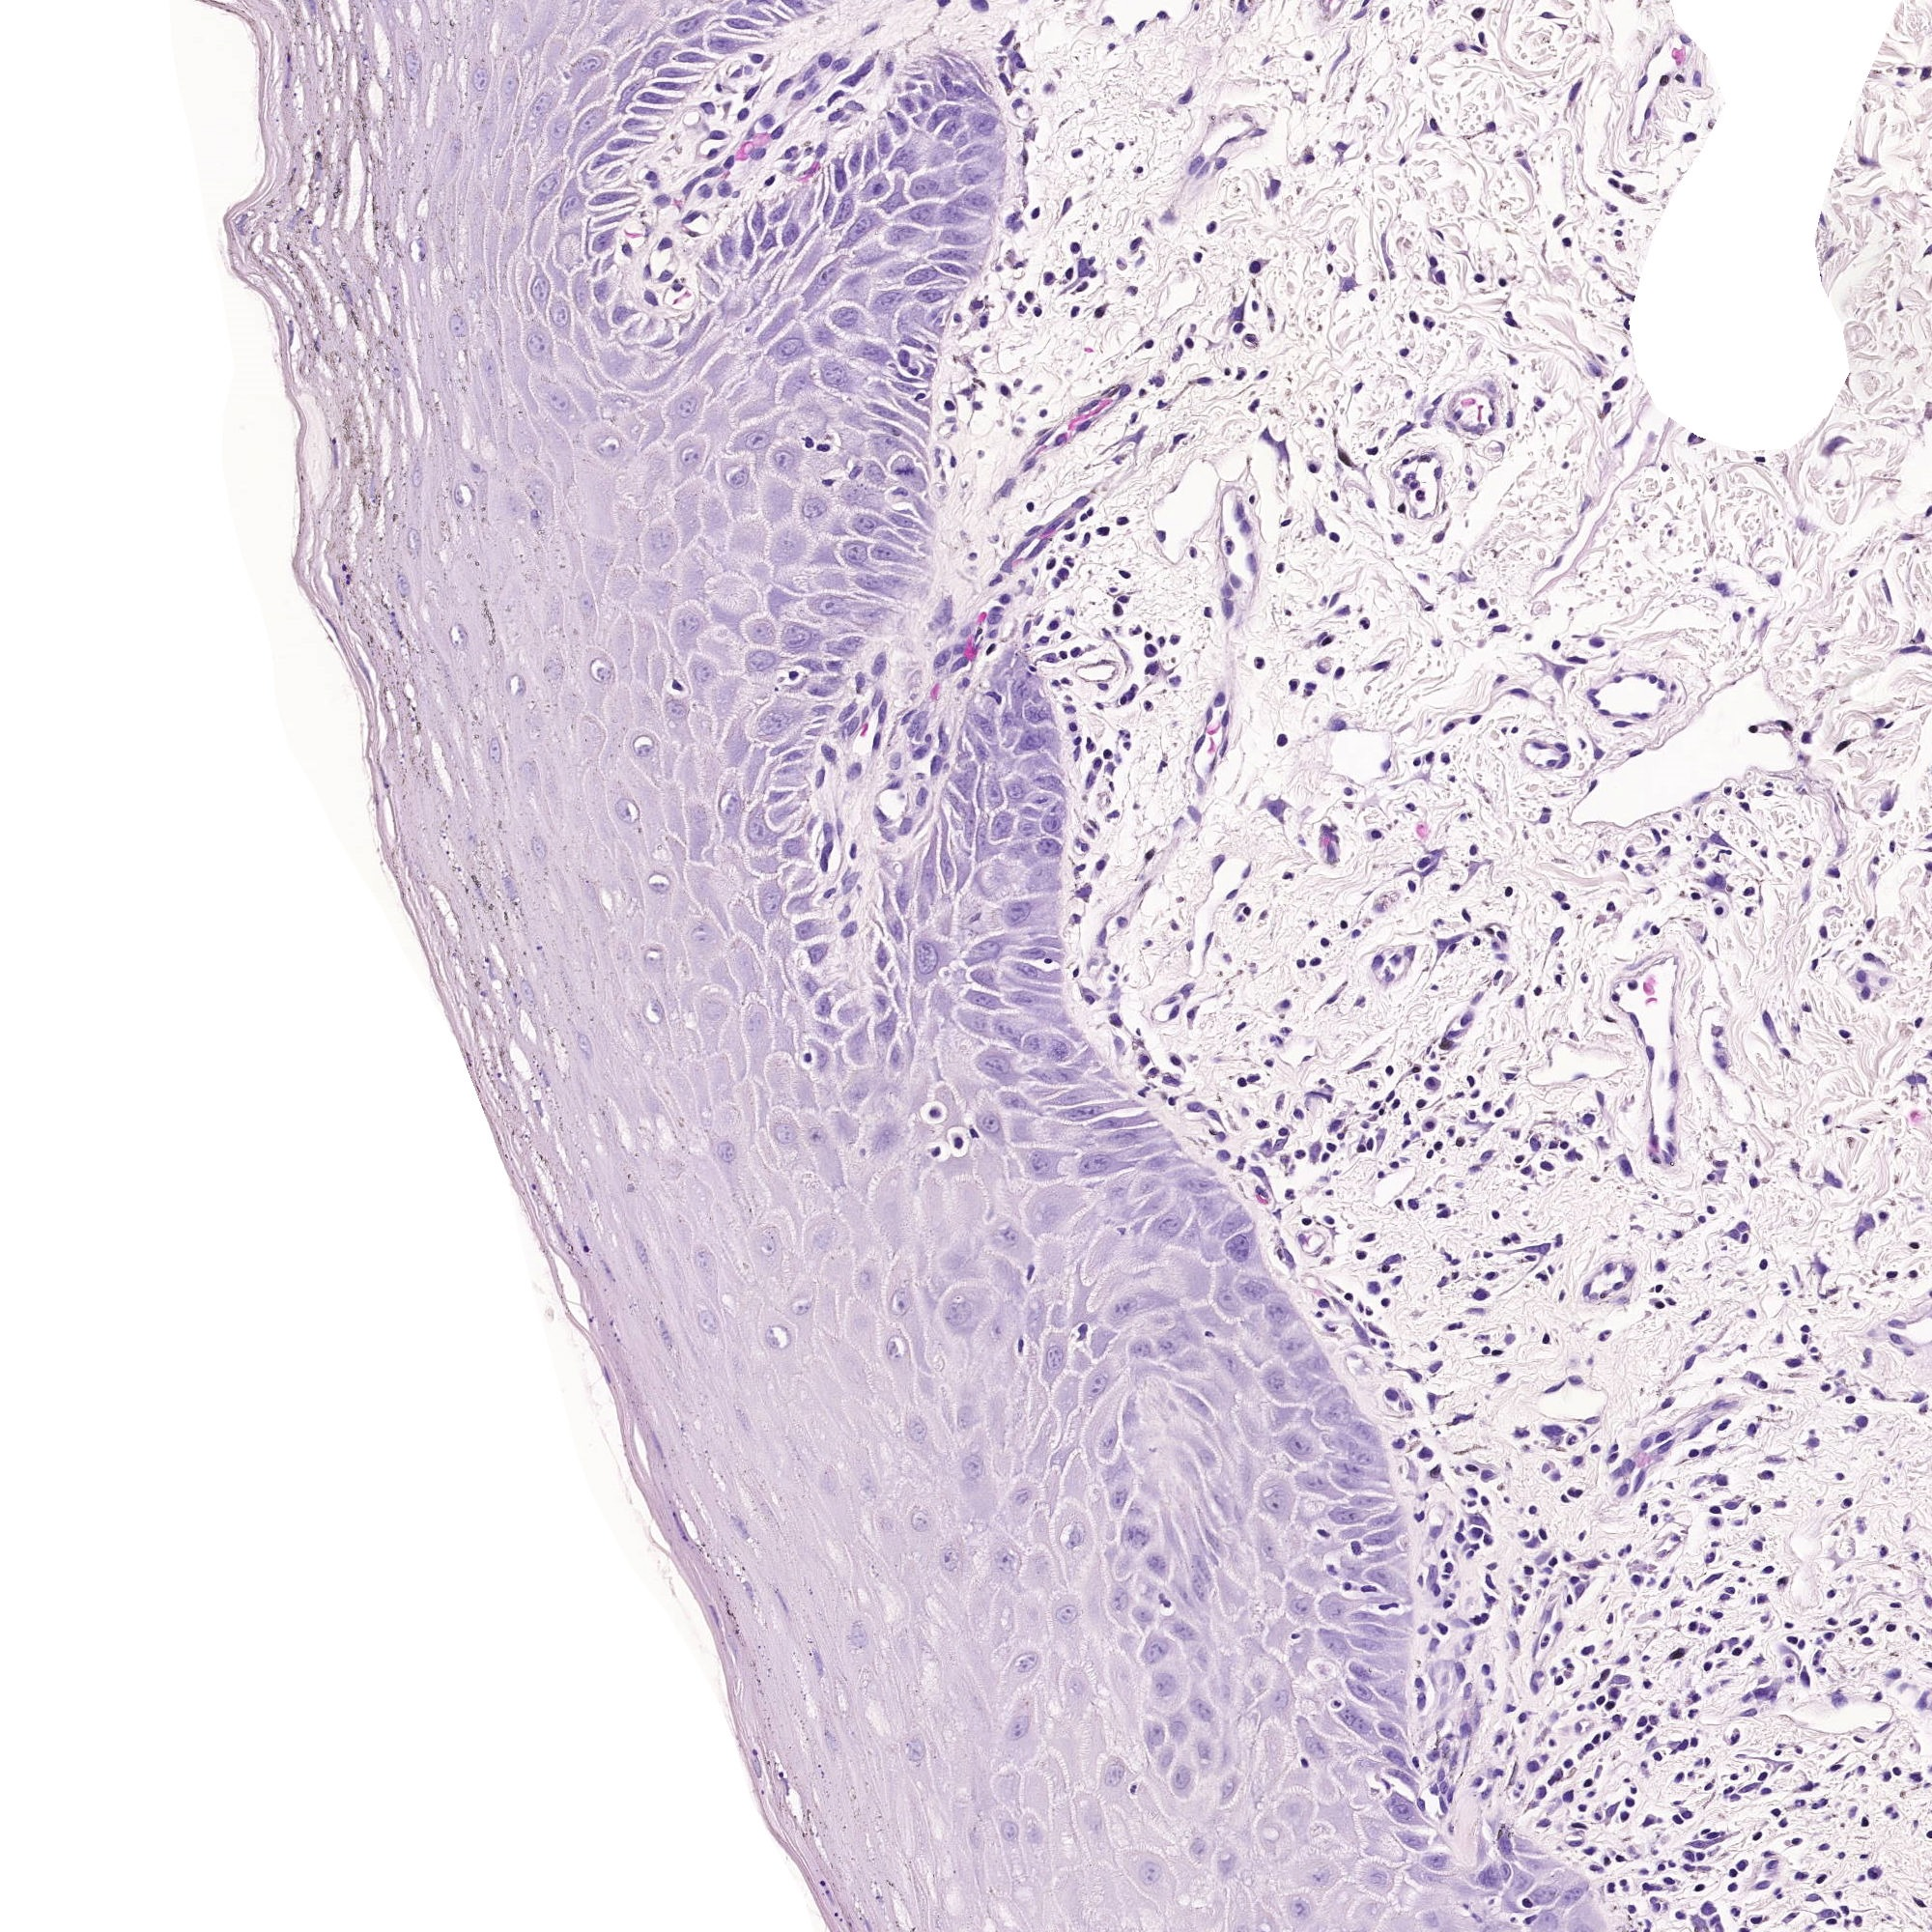epithelial: (916, 1518, 927, 1527), (1391, 1752, 1399, 1760), (768, 720, 780, 725), (1132, 1530, 1139, 1539), (1384, 1729, 1392, 1736), (918, 186, 929, 191), (757, 628, 764, 635), (782, 1131, 789, 1138), (943, 863, 950, 870), (915, 1424, 922, 1431), (1017, 1723, 1024, 1730), (1329, 1408, 1336, 1415), (1299, 1603, 1306, 1610), (1338, 1514, 1352, 1518), (1373, 1875, 1380, 1882), (586, 122, 594, 127), (752, 437, 761, 442), (713, 1010, 722, 1016), (902, 154, 911, 159), (925, 292, 934, 297), (837, 646, 846, 651), (1047, 821, 1056, 826), (980, 996, 989, 1001), (1012, 1100, 1021, 1106), (1399, 1808, 1405, 1817), (1414, 1838, 1419, 1847), (409, 60, 414, 67), (556, 311, 563, 317), (717, 41, 724, 46), (782, 456, 787, 464), (685, 621, 695, 625), (701, 671, 706, 678), (888, 297, 895, 303), (828, 372, 835, 377), (904, 386, 911, 391), (924, 954, 929, 961), (893, 1054, 899, 1062), (955, 1309, 961, 1316), (961, 1417, 968, 1422), (1044, 846, 1051, 851), (984, 945, 991, 950), (1060, 1046, 1065, 1053), (985, 1118, 991, 1125), (1051, 1353, 1056, 1361), (1106, 1437, 1111, 1444), (1023, 1661, 1030, 1667), (1235, 1244, 1246, 1247), (1226, 1297, 1231, 1304), (1247, 1288, 1254, 1293), (1307, 1481, 1318, 1484), (1178, 1626, 1185, 1631), (1154, 1645, 1159, 1652), (1315, 1744, 1325, 1748), (1343, 1477, 1348, 1484), (1361, 1614, 1368, 1619), (1371, 1629, 1378, 1635), (1361, 1644, 1371, 1647), (1357, 1670, 1364, 1675), (1433, 1859, 1440, 1865), (556, 398, 564, 402), (865, 1484, 874, 1488), (1139, 1612, 1148, 1615), (479, 76, 485, 81), (508, 85, 513, 90), (412, 538, 418, 543), (584, 602, 589, 607), (787, 343, 793, 349), (658, 536, 663, 541), (701, 1258, 706, 1263), (708, 1322, 713, 1327), (741, 1414, 747, 1419), (876, 186, 881, 191), (842, 209, 847, 214), (885, 1026, 890, 1031), (855, 1047, 860, 1053), (1031, 738, 1037, 743), (991, 793, 996, 798), (1001, 1026, 1007, 1031), (1085, 1109, 1090, 1115), (1113, 1773, 1118, 1778), (1168, 1224, 1173, 1230), (1166, 1343, 1171, 1348), (1361, 1431, 1366, 1437), (1361, 1499, 1366, 1504), (545, 182, 552, 186), (534, 343, 541, 347), (685, 25, 688, 32), (598, 239, 602, 246), (727, 246, 731, 253), (757, 219, 761, 226), (810, 506, 817, 510), (754, 826, 757, 833), (770, 899, 773, 906), (803, 927, 810, 931), (814, 1134, 821, 1138), (766, 1242, 770, 1249), (862, 524, 869, 527), (878, 410, 885, 414), (961, 780, 968, 784), (973, 1021, 980, 1024), (1030, 1040, 1037, 1044), (994, 1063, 1001, 1067), (1069, 1095, 1076, 1099), (1005, 1557, 1012, 1560), (1141, 1343, 1148, 1346), (1288, 1343, 1295, 1346), (1269, 1375, 1276, 1378), (1196, 1583, 1200, 1591), (1311, 1875, 1318, 1879), (1361, 1454, 1368, 1458), (1373, 1537, 1387, 1539), (1380, 1573, 1384, 1580), (1359, 1688, 1362, 1695), (1541, 1891, 1545, 1898), (1039, 800, 1051, 801), (455, 322, 458, 327), (403, 584, 407, 589), (534, 488, 538, 494), (552, 669, 556, 674), (536, 846, 541, 849), (736, 21, 741, 25), (649, 97, 655, 101), (766, 239, 771, 242), (602, 324, 605, 329), (736, 476, 741, 479), (775, 794, 780, 798), (755, 1019, 759, 1024), (722, 1150, 727, 1154), (642, 1251, 646, 1256), (837, 175, 840, 180), (916, 212, 922, 216), (945, 255, 955, 257), (916, 274, 922, 278), (855, 552, 860, 556), (865, 579, 870, 582), (870, 612, 876, 616), (826, 1477, 830, 1483), (947, 1557, 952, 1560), (856, 1633, 860, 1638), (980, 117, 984, 122), (971, 173, 977, 177), (1031, 709, 1037, 713), (1012, 789, 1017, 793), (1024, 823, 1028, 828), (1039, 874, 1044, 878), (1014, 911, 1019, 915), (1026, 970, 1031, 973), (1023, 996, 1028, 1000), (1039, 1157, 1042, 1162), (1095, 1162, 1099, 1168), (1109, 1122, 1115, 1125), (1005, 1233, 1010, 1237), (1097, 1384, 1100, 1389), (1017, 1495, 1023, 1499), (1065, 1612, 1070, 1615), (1086, 1817, 1092, 1821), (1194, 1184, 1200, 1187), (1276, 1309, 1279, 1315), (1207, 1456, 1210, 1461), (1215, 1541, 1219, 1546), (1201, 1566, 1205, 1571), (1074, 1683, 1077, 1688), (1226, 1785, 1230, 1790), (1148, 1870, 1154, 1874), (1224, 1865, 1230, 1868), (1297, 1905, 1302, 1909), (1380, 1520, 1384, 1525), (1506, 1870, 1509, 1875), (665, 85, 674, 87), (809, 984, 810, 993), (817, 1240, 826, 1242), (855, 157, 856, 166), (897, 520, 906, 522), (1346, 1468, 1355, 1470), (494, 748, 497, 752), (582, 1042, 586, 1046), (695, 41, 699, 44), (628, 90, 632, 94), (642, 110, 649, 111), (600, 159, 603, 163), (747, 244, 750, 248), (777, 212, 780, 216), (824, 274, 828, 278), (794, 635, 798, 639), (828, 603, 832, 607), (674, 706, 678, 709), (793, 754, 796, 757), (699, 932, 702, 936), (823, 1003, 824, 1010), (823, 1028, 826, 1031), (821, 1054, 824, 1058), (738, 1525, 741, 1529), (947, 85, 950, 88), (959, 88, 962, 92), (922, 103, 925, 106), (934, 117, 938, 120), (947, 127, 950, 131), (885, 142, 886, 149), (860, 225, 863, 228), (853, 492, 856, 495), (878, 550, 885, 552), (814, 690, 821, 692), (915, 1746, 918, 1750), (973, 200, 977, 203), (1039, 780, 1046, 782), (1003, 823, 1007, 826), (895, 924, 897, 931), (985, 973, 989, 977), (971, 1461, 975, 1465), (1010, 1829, 1012, 1836), (1154, 1203, 1157, 1207), (1118, 1307, 1125, 1309), (1226, 1361, 1230, 1364), (1191, 1361, 1198, 1362), (1164, 1759, 1168, 1762), (1178, 1776, 1182, 1780), (1361, 1723, 1362, 1730), (1401, 1775, 1405, 1778), (589, 62, 591, 67), (559, 124, 561, 129), (568, 203, 573, 205), (540, 288, 541, 294), (490, 363, 492, 368), (653, 55, 658, 57), (786, 234, 791, 235), (755, 658, 761, 660), (819, 1658, 821, 1663), (869, 161, 870, 166), (952, 237, 957, 239), (948, 267, 954, 269), (865, 350, 870, 352), (908, 341, 913, 343), (784, 547, 789, 548), (899, 1304, 904, 1306), (968, 152, 973, 154), (1120, 1136, 1125, 1138), (1116, 1497, 1122, 1499), (1157, 1162, 1162, 1164), (1146, 1184, 1152, 1185), (1299, 1444, 1304, 1445), (1154, 1560, 1159, 1562), (1203, 1748, 1205, 1753), (455, 145, 456, 149), (580, 295, 582, 299), (527, 991, 529, 994), (621, 142, 623, 145), (600, 288, 603, 290), (617, 313, 619, 317), (685, 405, 688, 407), (688, 455, 692, 456), (814, 952, 817, 954), (589, 1189, 591, 1192), (801, 1304, 803, 1307), (908, 101, 909, 104), (893, 202, 895, 205), (821, 334, 823, 338), (879, 957, 881, 961), (945, 740, 947, 743), (879, 996, 881, 1000), (961, 140, 962, 143), (950, 214, 954, 216), (1017, 688, 1021, 690), (980, 748, 982, 752), (1046, 1074, 1049, 1076), (1116, 1189, 1120, 1191), (1231, 1224, 1235, 1226), (1116, 1599, 1120, 1601), (1196, 1845, 1200, 1847), (1346, 1713, 1348, 1716), (416, 478, 418, 479), (789, 847, 791, 849), (780, 1598, 782, 1599), (865, 1276, 867, 1277)
fibroblast and endothelial: (876, 658, 881, 669), (920, 793, 925, 801), (1573, 1378, 1582, 1384), (1376, 663, 1384, 669), (1431, 1571, 1435, 1582), (1251, 559, 1254, 568), (1444, 725, 1453, 729), (1615, 1677, 1624, 1681), (837, 62, 842, 67), (796, 92, 801, 97), (1083, 423, 1088, 428), (883, 441, 888, 446), (1067, 522, 1072, 527), (1053, 522, 1058, 527), (1231, 579, 1237, 584), (1169, 1077, 1175, 1083), (1426, 410, 1431, 416), (1376, 959, 1382, 964), (1826, 1177, 1831, 1182), (1920, 1077, 1925, 1083), (1562, 759, 1568, 764), (748, 90, 752, 97), (713, 134, 720, 138), (686, 184, 690, 191), (862, 67, 869, 71), (957, 662, 964, 665), (844, 709, 847, 717), (851, 724, 855, 731), (906, 823, 909, 830), (1026, 462, 1033, 465), (1017, 545, 1021, 552), (1184, 96, 1191, 99), (1192, 161, 1196, 168), (1226, 603, 1230, 610), (1212, 858, 1219, 862), (1185, 985, 1192, 989), (1490, 416, 1493, 423), (1442, 1803, 1445, 1810), (1458, 1667, 1461, 1674), (1688, 1359, 1691, 1366), (1463, 1016, 1467, 1023), (1555, 932, 1559, 939), (1557, 669, 1560, 676), (805, 73, 810, 76), (660, 198, 665, 202), (711, 170, 717, 173), (702, 189, 708, 193), (692, 214, 697, 218), (665, 274, 669, 280), (828, 752, 832, 757), (849, 76, 853, 81), (835, 92, 839, 97), (964, 628, 968, 633), (855, 768, 858, 773), (849, 879, 853, 885), (842, 911, 846, 916), (1005, 35, 1008, 41), (1042, 437, 1046, 442), (870, 474, 876, 478), (994, 579, 1000, 582), (1100, 685, 1106, 688), (1244, 524, 1247, 529), (1191, 812, 1196, 816), (1143, 1058, 1146, 1063), (1256, 1169, 1261, 1173), (1431, 258, 1435, 264), (1401, 430, 1407, 433), (1456, 412, 1461, 416), (1438, 536, 1442, 541), (1856, 1918, 1859, 1923), (1856, 1737, 1861, 1741), (1748, 1711, 1752, 1716), (1433, 1789, 1437, 1794), (1474, 1530, 1477, 1536), (1391, 1392, 1394, 1398), (1663, 1445, 1668, 1449), (1359, 1330, 1362, 1336), (1373, 1327, 1378, 1330), (1732, 1231, 1736, 1237), (1893, 1322, 1898, 1325), (1329, 998, 1334, 1001), (1668, 1122, 1672, 1127), (1714, 1028, 1718, 1033), (1766, 1019, 1771, 1023), (1716, 839, 1721, 842), (1560, 747, 1566, 750), (1688, 134, 1693, 138), (736, 73, 740, 76), (823, 58, 826, 62), (780, 83, 784, 87), (748, 133, 752, 136), (775, 131, 778, 134), (651, 173, 655, 177), (663, 241, 667, 244), (939, 655, 941, 662), (876, 695, 878, 702), (876, 738, 878, 745), (879, 812, 883, 816), (1014, 101, 1017, 104), (1081, 285, 1085, 288), (1099, 310, 1100, 317), (1092, 402, 1095, 405), (1035, 548, 1039, 552), (1256, 131, 1263, 133), (1175, 437, 1178, 441), (1237, 511, 1240, 515), (1159, 534, 1162, 538), (1219, 699, 1223, 702), (1339, 612, 1346, 614), (1146, 853, 1150, 856), (1184, 993, 1187, 996), (1152, 1070, 1155, 1074), (1192, 1106, 1200, 1108), (1286, 1253, 1290, 1256), (1490, 124, 1493, 127), (1346, 791, 1350, 794), (1440, 943, 1444, 947), (1920, 1902, 1923, 1905), (1794, 1840, 1798, 1844), (1822, 1845, 1826, 1849), (1695, 1844, 1702, 1845), (1803, 1787, 1810, 1789), (1583, 1651, 1587, 1654), (1442, 1785, 1444, 1792), (1421, 1697, 1422, 1704), (1419, 1679, 1421, 1686), (1488, 1582, 1491, 1585), (1573, 1578, 1576, 1582), (1476, 1520, 1483, 1522), (1433, 1529, 1435, 1536), (1635, 1578, 1638, 1582), (1431, 1394, 1433, 1401), (1813, 1440, 1817, 1444), (1500, 1376, 1504, 1380), (1585, 1286, 1587, 1293), (1665, 1401, 1667, 1408), (1741, 1223, 1744, 1226), (1895, 1338, 1898, 1341), (1859, 1226, 1861, 1233), (1410, 1201, 1414, 1205), (1507, 1074, 1511, 1077), (1453, 1033, 1460, 1035), (1911, 1077, 1914, 1081), (1575, 85, 1576, 92), (1610, 182, 1614, 186), (1522, 163, 1525, 166), (1697, 76, 1698, 83), (741, 111, 743, 117), (626, 248, 628, 253), (821, 775, 823, 780), (823, 860, 824, 865), (826, 828, 828, 833), (952, 458, 954, 464), (938, 456, 939, 462), (899, 490, 904, 492), (881, 708, 883, 713), (1065, 203, 1067, 209), (1125, 387, 1127, 393), (1060, 437, 1062, 442), (1005, 563, 1007, 568), (1067, 708, 1072, 709), (1102, 932, 1104, 938), (1226, 140, 1231, 142), (1203, 166, 1205, 172), (1318, 525, 1320, 531), (1208, 713, 1210, 718), (1338, 722, 1339, 727), (1208, 936, 1210, 941), (1277, 1141, 1279, 1146), (1258, 1191, 1263, 1192), (1474, 48, 1479, 50), (1433, 122, 1435, 127), (1760, 1884, 1766, 1886), (1686, 1813, 1691, 1815), (1709, 1835, 1714, 1836), (1744, 1787, 1750, 1789), (1587, 1851, 1592, 1852), (1642, 1718, 1644, 1723), (1675, 1654, 1681, 1656), (1534, 1686, 1536, 1691), (1421, 1801, 1422, 1806), (1440, 1773, 1442, 1778), (1476, 1780, 1477, 1785), (1578, 1587, 1580, 1592), (1484, 1474, 1490, 1476), (1661, 1435, 1663, 1440), (1707, 1447, 1709, 1453), (1546, 1389, 1552, 1391), (1530, 1249, 1536, 1251), (1543, 1246, 1545, 1251), (1744, 1237, 1746, 1242), (1391, 1093, 1392, 1099), (1486, 1104, 1488, 1109), (1649, 1051, 1651, 1056), (1813, 962, 1815, 968), (1822, 929, 1824, 934), (1592, 782, 1594, 787), (1840, 745, 1845, 747), (1642, 80, 1644, 85), (766, 119, 768, 122), (713, 152, 715, 156), (729, 161, 731, 165), (676, 287, 679, 288), (833, 115, 837, 117), (853, 106, 856, 108), (959, 648, 961, 651), (865, 711, 867, 715), (906, 717, 908, 720), (893, 784, 897, 786), (1001, 78, 1005, 80), (1081, 501, 1083, 504), (1086, 536, 1088, 540), (1033, 570, 1035, 573), (1093, 824, 1097, 826), (1088, 832, 1092, 833), (1085, 844, 1086, 847), (1079, 867, 1083, 869), (1139, 25, 1141, 28), (1235, 311, 1237, 315), (1261, 372, 1263, 375), (1284, 522, 1286, 525), (1230, 589, 1231, 593), (1224, 717, 1226, 720), (1332, 596, 1334, 600), (1122, 920, 1125, 922), (1246, 870, 1247, 874), (1189, 945, 1191, 948), (1171, 1000, 1175, 1001), (1212, 1113, 1214, 1116), (1277, 1253, 1279, 1256), (1279, 1214, 1281, 1217), (1369, 449, 1373, 451), (1437, 400, 1438, 403), (1447, 423, 1451, 425), (1369, 501, 1371, 504), (1499, 676, 1500, 679), (1474, 718, 1477, 720), (1465, 915, 1467, 918), (1410, 948, 1412, 952), (1389, 977, 1391, 980), (1500, 934, 1502, 938), (1500, 955, 1504, 957), (1594, 1867, 1598, 1868), (1667, 1879, 1668, 1882), (1755, 1920, 1759, 1921), (1812, 1897, 1815, 1898), (1845, 1909, 1847, 1913), (1686, 1852, 1688, 1856), (1686, 1867, 1688, 1870), (1645, 1822, 1649, 1824), (1610, 1810, 1612, 1813), (1576, 1824, 1580, 1826), (1522, 1716, 1523, 1720), (1683, 1744, 1684, 1748), (1624, 1658, 1626, 1661), (1422, 1629, 1426, 1631), (1709, 1578, 1713, 1580), (1725, 1596, 1727, 1599), (1714, 1509, 1718, 1511), (1407, 1403, 1408, 1407), (1766, 1472, 1769, 1474), (1619, 1284, 1621, 1288), (1444, 1212, 1445, 1215), (1633, 1017, 1635, 1021), (1672, 1146, 1674, 1150), (1783, 1053, 1787, 1054), (1665, 847, 1668, 849), (1545, 817, 1546, 821), (1589, 692, 1592, 694), (1594, 701, 1598, 702), (1603, 711, 1606, 713), (1633, 752, 1637, 754), (1557, 561, 1559, 564), (1546, 14, 1548, 18), (1647, 111, 1649, 115), (1681, 37, 1684, 39), (690, 234, 692, 235), (821, 108, 823, 110), (1035, 529, 1037, 531), (1070, 536, 1072, 538), (1063, 679, 1065, 681), (1161, 14, 1162, 16), (1251, 338, 1253, 340), (1200, 741, 1201, 743), (1231, 893, 1233, 895), (1401, 161, 1403, 163), (1438, 232, 1440, 234), (1509, 322, 1511, 324), (1424, 423, 1426, 425), (1405, 460, 1407, 462), (1422, 458, 1424, 460), (1502, 446, 1504, 448), (1385, 764, 1387, 766), (1488, 929, 1490, 931), (1836, 1893, 1838, 1895), (1619, 1859, 1621, 1861), (1826, 1635, 1828, 1637), (1730, 1589, 1732, 1591), (1856, 1621, 1858, 1622), (1375, 1104, 1376, 1106), (1414, 1069, 1415, 1070), (1614, 996, 1615, 998), (1654, 832, 1656, 833), (1767, 793, 1769, 794), (1773, 580, 1775, 582)
inflammatory: (1329, 1122, 1338, 1129), (1203, 1709, 1212, 1716), (1601, 1332, 1608, 1339), (1175, 1729, 1182, 1734), (1228, 543, 1231, 552), (847, 925, 853, 931), (1155, 1730, 1161, 1736), (1859, 973, 1865, 978), (1424, 858, 1428, 865), (1706, 1905, 1709, 1913), (1545, 1638, 1548, 1645), (1421, 1451, 1428, 1454), (1477, 1293, 1484, 1297), (1615, 382, 1619, 389), (1902, 69, 1909, 73), (1253, 265, 1256, 271), (1258, 660, 1261, 665), (1281, 736, 1284, 741), (1313, 1146, 1315, 1157), (1221, 1154, 1226, 1157), (1440, 274, 1444, 280), (1532, 1764, 1536, 1769), (1714, 1520, 1718, 1525), (1847, 1499, 1851, 1504), (1451, 1325, 1461, 1327), (1622, 1162, 1626, 1168), (1789, 1361, 1798, 1362), (474, 465, 478, 469), (706, 106, 709, 110), (648, 297, 651, 301), (1076, 152, 1079, 156), (1046, 276, 1049, 280), (1113, 1017, 1116, 1021), (1307, 156, 1311, 159), (1272, 805, 1276, 809), (1334, 1642, 1338, 1645), (1428, 320, 1431, 324), (1497, 626, 1504, 628), (1499, 971, 1502, 975), (1824, 1913, 1831, 1914), (1813, 1805, 1817, 1808), (1863, 1628, 1867, 1631), (1368, 1237, 1371, 1240), (1762, 1384, 1766, 1387), (1536, 1141, 1537, 1148), (1631, 984, 1635, 987), (1651, 678, 1654, 681), (1923, 71, 1927, 74), (978, 2, 980, 7), (1086, 996, 1088, 1001), (1274, 182, 1276, 188), (1161, 1683, 1166, 1684), (1281, 1697, 1283, 1702), (1477, 9, 1479, 14), (1412, 313, 1414, 318), (1566, 1798, 1571, 1799), (1713, 1555, 1714, 1560), (1552, 1430, 1557, 1431), (1569, 1437, 1571, 1442), (1861, 1419, 1863, 1424), (1831, 1592, 1833, 1598), (1660, 1302, 1661, 1307), (1914, 1272, 1916, 1277), (1707, 1175, 1713, 1177), (1431, 1081, 1433, 1086), (1891, 844, 1893, 849), (1736, 612, 1737, 617), (789, 149, 791, 152), (888, 67, 890, 71), (1003, 387, 1005, 391), (1053, 625, 1054, 628), (1044, 639, 1046, 642), (994, 695, 998, 697), (1072, 725, 1074, 729), (1097, 761, 1099, 764), (1090, 777, 1092, 780), (1210, 226, 1212, 230), (1311, 467, 1315, 469), (1292, 681, 1293, 685), (1339, 671, 1341, 674), (1325, 640, 1329, 642), (1330, 1146, 1332, 1150), (1325, 1155, 1327, 1159), (1276, 1500, 1277, 1504), (1336, 1608, 1338, 1612), (1428, 755, 1430, 759), (1375, 833, 1378, 835), (1453, 947, 1454, 950), (1605, 1859, 1608, 1861), (1736, 1911, 1739, 1913), (1872, 1874, 1875, 1875), (1881, 1214, 1882, 1217), (1753, 1180, 1755, 1184), (1587, 1116, 1589, 1120), (1718, 909, 1720, 913), (1698, 863, 1702, 865), (1610, 906, 1612, 909), (1744, 803, 1746, 807), (1617, 232, 1619, 235), (1624, 350, 1626, 354), (971, 554, 973, 556), (1067, 559, 1069, 561), (1051, 658, 1053, 660), (1159, 403, 1161, 405), (1152, 648, 1154, 649), (1175, 1062, 1177, 1063), (1329, 1221, 1330, 1223), (1336, 1702, 1338, 1704), (1362, 621, 1364, 623), (1408, 805, 1410, 807), (1741, 1865, 1743, 1867), (1736, 1736, 1737, 1737), (1645, 1683, 1647, 1684), (1882, 1550, 1884, 1552), (1472, 1115, 1474, 1116), (1916, 1021, 1918, 1023), (1727, 791, 1729, 793)
lymphocyte: (971, 916, 978, 922), (1437, 1141, 1440, 1150), (1109, 975, 1115, 980), (1261, 1123, 1267, 1129), (1691, 1451, 1697, 1456), (1497, 1111, 1504, 1115), (628, 1185, 633, 1189), (901, 354, 904, 359), (954, 317, 959, 320), (966, 679, 970, 685), (932, 1111, 936, 1116), (932, 1150, 938, 1154), (1297, 1111, 1300, 1116), (1587, 1744, 1591, 1750), (1557, 1677, 1560, 1683), (1442, 1626, 1445, 1631), (1594, 1445, 1598, 1451), (1433, 1364, 1437, 1369), (1598, 1093, 1601, 1099), (1867, 955, 1872, 959), (1803, 860, 1806, 865), (1619, 722, 1624, 725), (770, 180, 773, 184), (911, 372, 915, 375), (927, 347, 931, 350), (948, 403, 952, 407), (1122, 598, 1125, 602), (1106, 752, 1109, 755), (1083, 1329, 1085, 1336), (1173, 639, 1177, 642), (1238, 1024, 1242, 1028), (1207, 1332, 1210, 1336), (1322, 1302, 1325, 1306), (1322, 1530, 1325, 1534), (1162, 1599, 1166, 1603), (1293, 1635, 1297, 1638), (1329, 1568, 1332, 1571), (1368, 1587, 1371, 1591), (1525, 1902, 1529, 1905), (1698, 1856, 1702, 1859), (1594, 1737, 1598, 1741), (1895, 1769, 1898, 1773), (1484, 1667, 1486, 1674), (1541, 1534, 1545, 1537), (1571, 1493, 1578, 1495), (1484, 1499, 1486, 1506), (1384, 1300, 1387, 1304), (1359, 1254, 1362, 1258), (1762, 1263, 1766, 1267), (1709, 1208, 1713, 1212), (1562, 1143, 1566, 1146), (1428, 1152, 1431, 1155), (1468, 1077, 1472, 1081), (1842, 1031, 1845, 1035), (1663, 78, 1665, 85), (1679, 78, 1683, 81), (566, 73, 568, 78), (826, 893, 832, 895), (957, 1139, 959, 1145), (1240, 1079, 1242, 1085), (1507, 888, 1509, 893), (1355, 1545, 1357, 1550), (1675, 1815, 1677, 1821), (1693, 1739, 1695, 1744), (1721, 1424, 1723, 1430), (1468, 1467, 1474, 1468), (1803, 1327, 1808, 1329), (1746, 890, 1748, 895), (1617, 678, 1622, 679), (755, 58, 759, 60), (718, 87, 720, 90), (809, 442, 810, 446), (791, 674, 794, 676), (807, 1056, 809, 1060), (1106, 18, 1109, 19), (1074, 246, 1076, 249), (1072, 310, 1074, 313), (1028, 504, 1031, 506), (1051, 563, 1053, 566), (1122, 518, 1125, 520), (1100, 531, 1104, 533), (1062, 571, 1063, 575), (1054, 580, 1056, 584), (1116, 607, 1118, 610), (1065, 633, 1069, 635), (1047, 961, 1051, 962), (1076, 971, 1077, 975), (1116, 968, 1118, 971), (973, 1131, 975, 1134), (1196, 255, 1198, 258), (1327, 267, 1330, 269), (1235, 327, 1238, 329), (1189, 341, 1191, 345), (1332, 536, 1336, 538), (1343, 924, 1346, 925), (1171, 1100, 1173, 1104), (1318, 1313, 1320, 1316), (1346, 1583, 1348, 1587), (1412, 58, 1415, 60), (1477, 276, 1479, 280), (1502, 281, 1504, 285), (1481, 603, 1483, 607), (1414, 761, 1417, 763), (1410, 885, 1414, 886), (1454, 886, 1458, 888), (1476, 939, 1477, 943), (1384, 1606, 1387, 1608), (1527, 1920, 1530, 1921), (1698, 1886, 1700, 1890), (1730, 1886, 1734, 1888), (1621, 1882, 1624, 1884), (1831, 1920, 1833, 1923), (1757, 1835, 1759, 1838), (1762, 1775, 1766, 1776), (1628, 1801, 1629, 1805), (1580, 1806, 1582, 1810), (1605, 1734, 1606, 1737), (1568, 1762, 1569, 1766), (1633, 1789, 1635, 1792), (1656, 1755, 1658, 1759), (1790, 1638, 1792, 1642), (1867, 1640, 1870, 1642), (1890, 1628, 1893, 1629), (1706, 1665, 1709, 1667), (1787, 1624, 1790, 1626), (1599, 1698, 1601, 1702), (1569, 1665, 1571, 1668), (1591, 1704, 1592, 1707), (1484, 1615, 1486, 1619), (1435, 1589, 1437, 1592), (1417, 1516, 1421, 1518), (1525, 1596, 1527, 1599), (1527, 1569, 1530, 1571), (1562, 1497, 1564, 1500), (1486, 1539, 1490, 1541), (1767, 1568, 1771, 1569), (1755, 1509, 1759, 1511), (1484, 1348, 1486, 1352), (1414, 1376, 1417, 1378), (1702, 1217, 1704, 1221), (1546, 1166, 1550, 1168), (1516, 1159, 1520, 1161), (1398, 1200, 1399, 1203), (1392, 1162, 1396, 1164), (1380, 1111, 1382, 1115), (1394, 1102, 1396, 1106), (1695, 895, 1698, 897), (1555, 644, 1557, 648), (1663, 465, 1665, 469), (1759, 458, 1762, 460), (1568, 241, 1569, 244), (747, 329, 748, 331), (826, 481, 828, 483), (676, 685, 678, 686), (927, 738, 929, 740), (1118, 145, 1120, 147), (1028, 295, 1030, 297), (1021, 308, 1023, 310), (1123, 573, 1125, 575), (989, 648, 991, 649), (1076, 651, 1077, 653), (1054, 681, 1056, 683), (1122, 699, 1123, 701), (1120, 1230, 1122, 1231), (1134, 244, 1136, 246), (1254, 304, 1256, 306), (1226, 370, 1228, 372), (1238, 375, 1240, 377), (1146, 635, 1148, 637), (1246, 909, 1247, 911), (1269, 1062, 1270, 1063), (1283, 1131, 1284, 1132), (1339, 1136, 1341, 1138), (1306, 1221, 1307, 1223), (1403, 350, 1405, 352), (1399, 508, 1401, 510), (1428, 607, 1430, 609), (1493, 612, 1495, 614), (1504, 729, 1506, 731), (1610, 1884, 1612, 1886), (1610, 1890, 1612, 1891), (1629, 1907, 1631, 1909), (1776, 1812, 1778, 1813), (1661, 1867, 1663, 1868), (1706, 1760, 1707, 1762), (1734, 1776, 1736, 1778), (1801, 1644, 1803, 1645), (1914, 1635, 1916, 1637), (1608, 1706, 1610, 1707), (1596, 1684, 1598, 1686), (1415, 1760, 1417, 1762), (1509, 1707, 1511, 1709), (1445, 1603, 1447, 1605), (1495, 1352, 1497, 1353), (1495, 1214, 1497, 1215), (1378, 1173, 1380, 1175), (1537, 991, 1539, 993), (1753, 842, 1755, 844), (1652, 929, 1654, 931), (1564, 906, 1566, 908), (1624, 863, 1626, 865), (1852, 571, 1854, 573)
